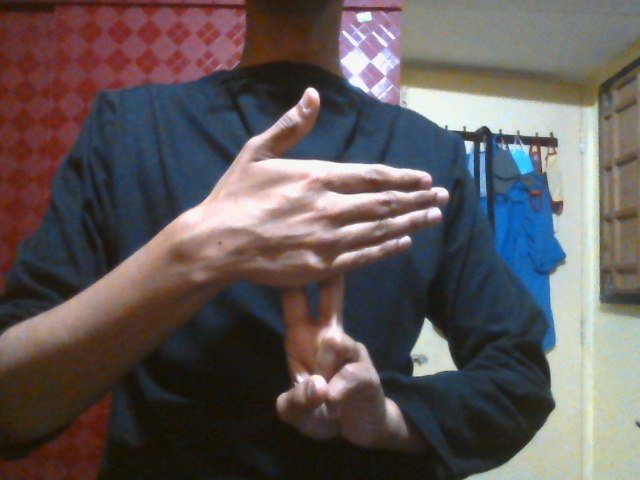N: (214, 87, 448, 444)
